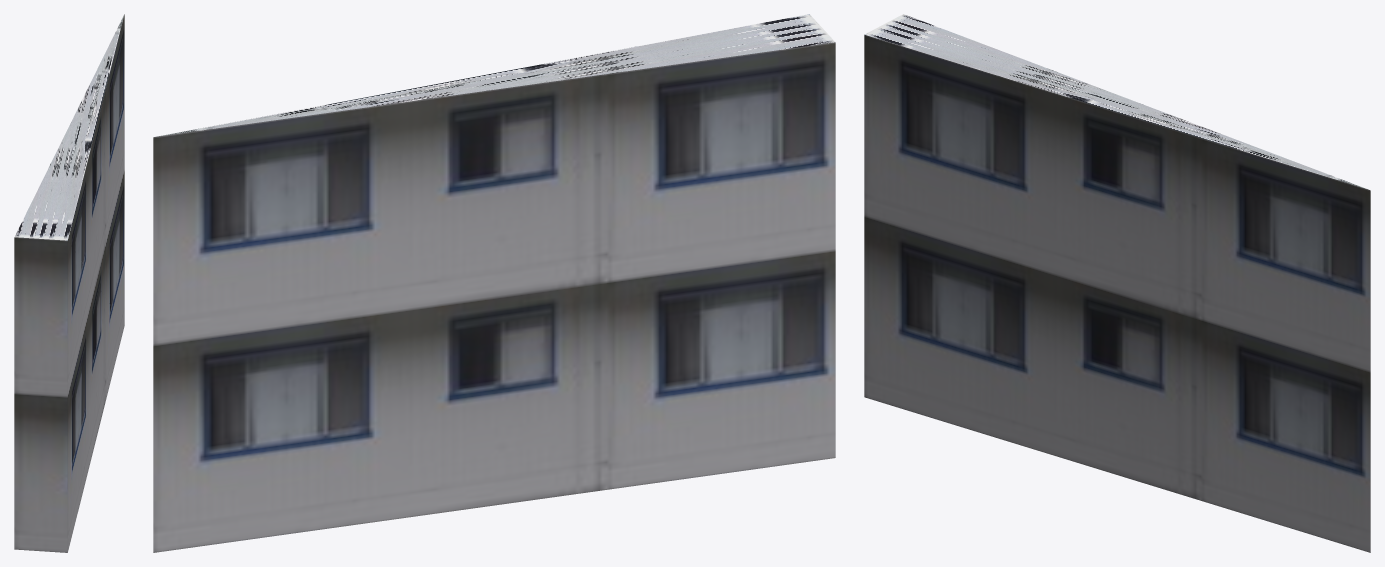
File: ResTex__3123.fbx
The picture shows the model from 3 angles, left to right: view 1: azimuth 30°, elevation 25°; view 2: azimuth 150°, elevation 25°; view 3: azimuth 270°, elevation 25°; orthographic projection. The views are drawn at different scales.
Visible parts, largest first — view 1: CityEngineMaterial_9_m, CityEngineMaterial_2_m; view 2: CityEngineMaterial_9_m, CityEngineMaterial_2_m; view 3: CityEngineMaterial_9_m, CityEngineMaterial_2_m.
Part boxes in pixels (x1=…): CityEngineMaterial_9_m: x1=14, y1=14, x2=124, y2=552; CityEngineMaterial_2_m: x1=14, y1=15, x2=123, y2=240; CityEngineMaterial_9_m: x1=153, y1=42, x2=835, y2=552; CityEngineMaterial_2_m: x1=155, y1=14, x2=835, y2=136; CityEngineMaterial_9_m: x1=864, y1=34, x2=1370, y2=552; CityEngineMaterial_2_m: x1=865, y1=14, x2=1367, y2=189.
Size of the model in its own units: 6.26 by 6 by 7.59.
Materials: 2 (2 with a texture image).
